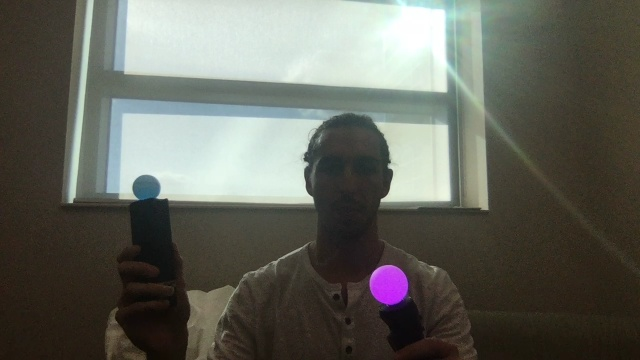wand: (372, 265, 408, 304), (133, 174, 161, 199)
